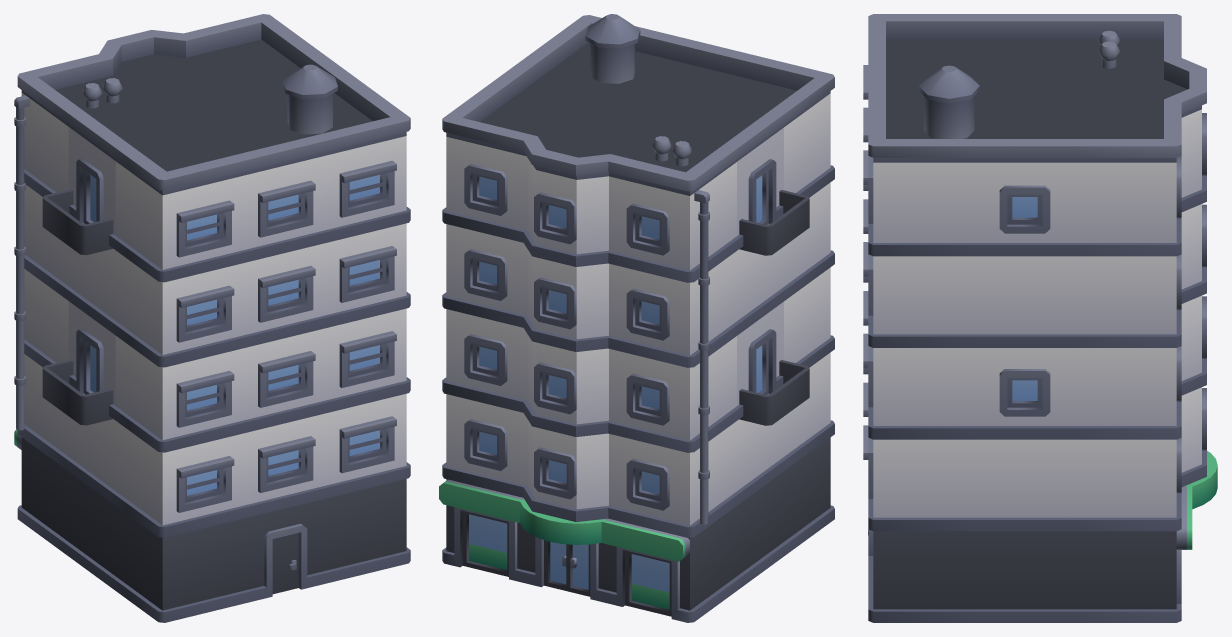
The model's file is building-l.glb.
3 renders of one model, left to right at view 1: azimuth 30°, elevation 25°; view 2: azimuth 150°, elevation 25°; view 3: azimuth 270°, elevation 25°, orthographic. The views are drawn at different scales.
Visible parts, largest first — view 1: building-l; view 2: building-l; view 3: building-l.
Boxes of the visible parts, box(x1,y1,x2,y2) form: building-l: box(14, 14, 410, 622); building-l: box(439, 14, 834, 622); building-l: box(863, 14, 1217, 622).
Bounding box in the file's own units: 1.37 × 2.27 × 1.4.
1 material, 1 textured.
